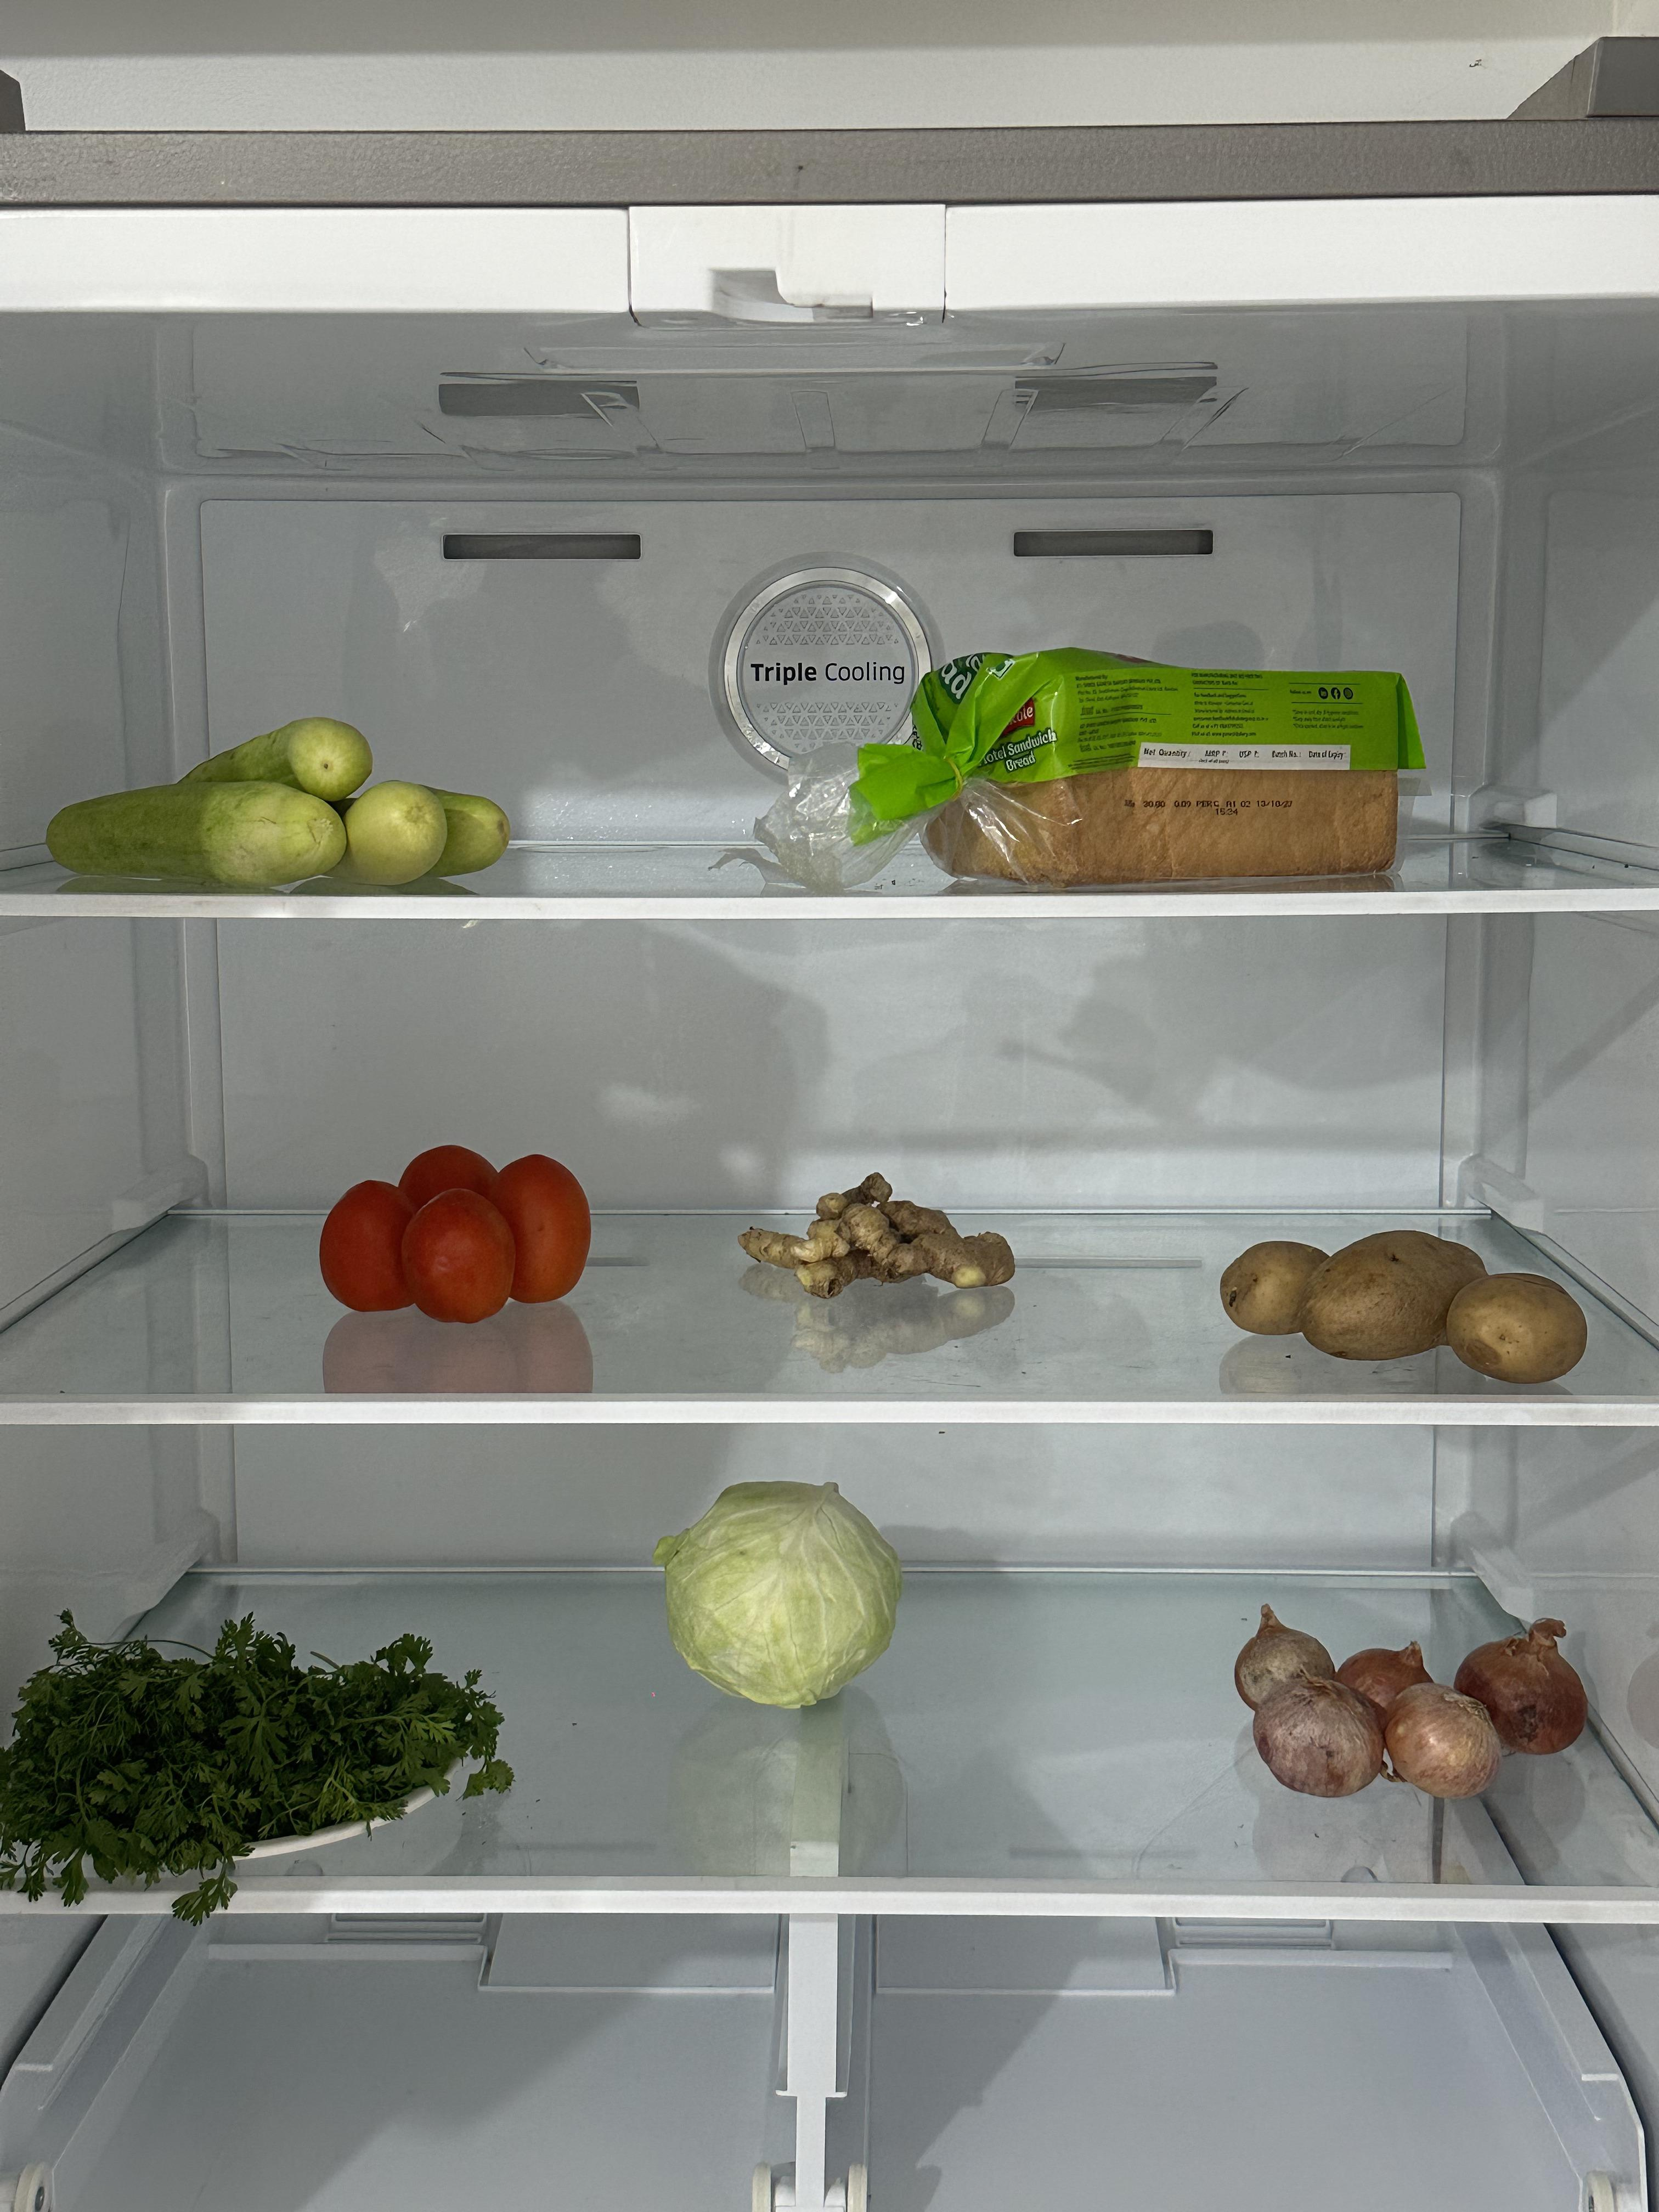bread: (918, 641, 1422, 898)
cabbage: (665, 1470, 903, 1712)
coriander: (50, 1611, 504, 1895)
cucumber: (50, 714, 507, 895), (317, 1132, 591, 1323)
ginger: (729, 1167, 1011, 1312)
onion: (1234, 1589, 1594, 1806)
potato: (1206, 1224, 1599, 1397)
